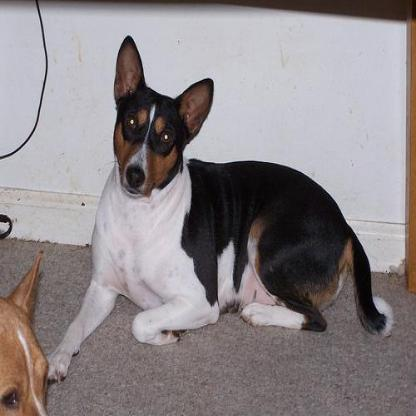basenji: (42, 32, 396, 388)
